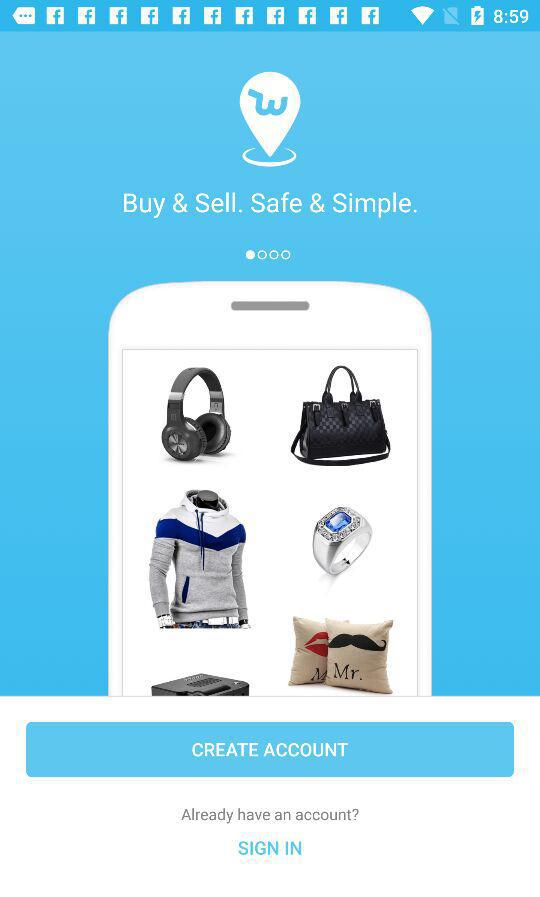Image: (108, 281, 431, 696), (239, 72, 302, 168)
PageIndicator: (245, 249, 292, 261)
Text: (123, 192, 418, 220), (181, 807, 360, 825), (238, 841, 303, 856)
TextButton: (27, 722, 514, 777)
UpperTaskBar: (1, 1, 540, 33)
